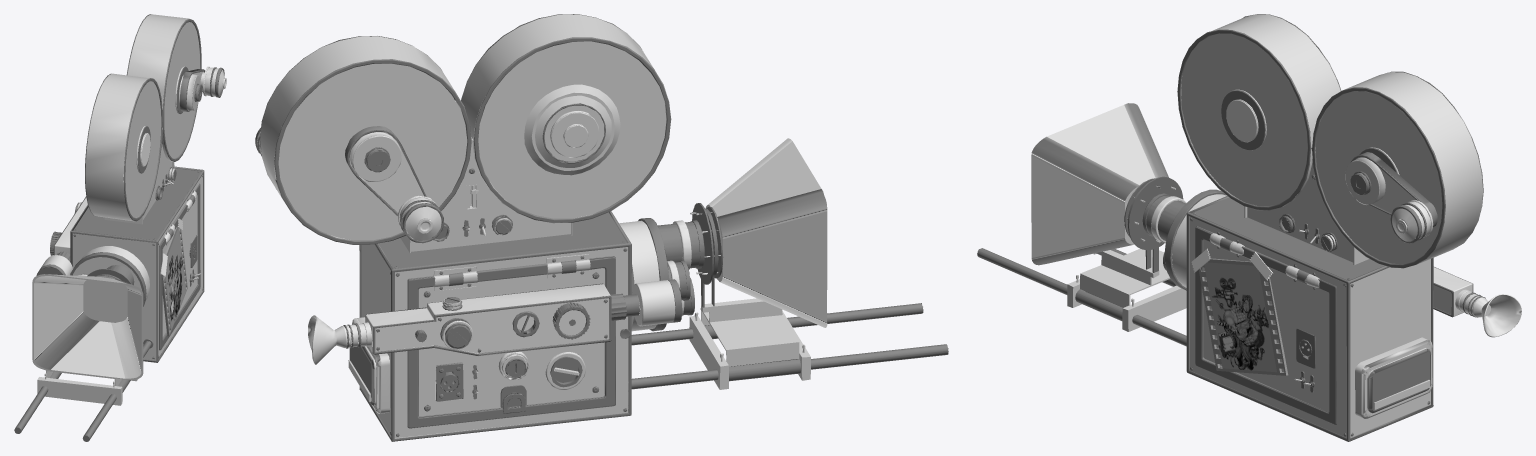
Rendered from video.glb.
The picture shows the model from 3 angles, left to right: view 1: azimuth 30°, elevation 25°; view 2: azimuth 150°, elevation 25°; view 3: azimuth 270°, elevation 25°; orthographic projection. The views are drawn at different scales.
Parts seen in each view (by area): view 1: Cube.010; view 2: Cube.010; view 3: Cube.010.
Boxes of the visible parts, x1,y1,x2,y2 form: Cube.010: (14, 14, 226, 441); Cube.010: (255, 14, 948, 441); Cube.010: (977, 14, 1521, 441).
Size of the model in its own units: 100 by 71.28 by 102.
Materials: 21 (1 with a texture image).
